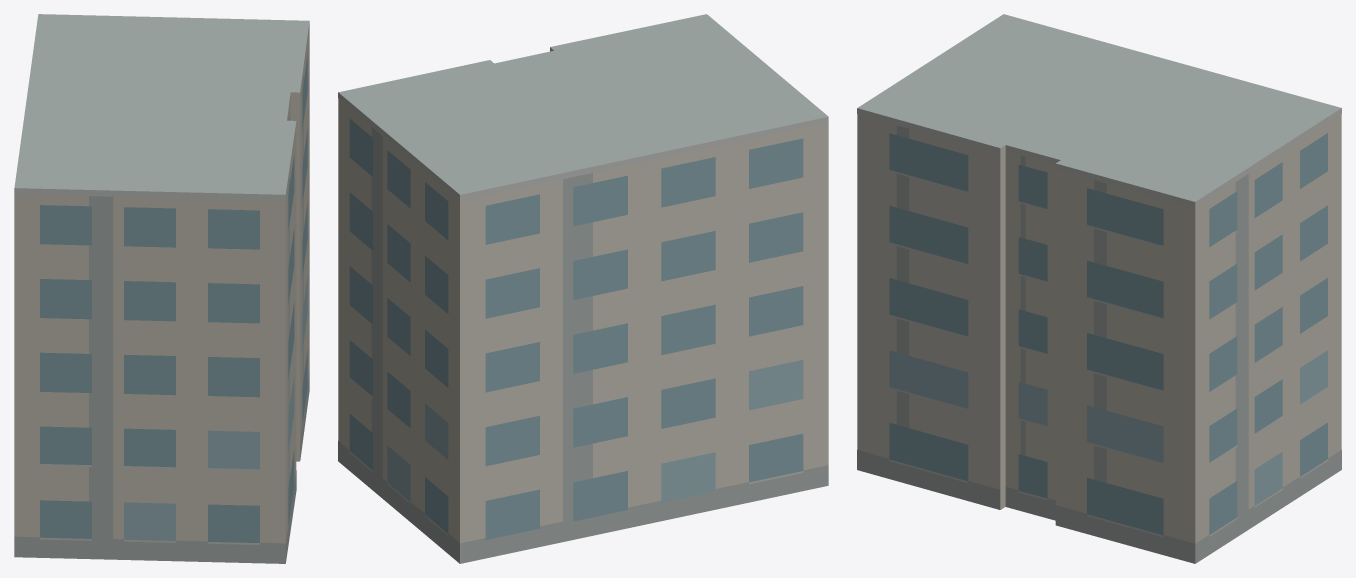
The model's file is survey-upis-32893496.glb.
3 views of the same model, side by side, from view 1: azimuth 30°, elevation 25°; view 2: azimuth 150°, elevation 25°; view 3: azimuth 270°, elevation 25° (orthographic).
Visible parts, largest first — view 1: survey-upis-32893496.tmp; view 2: survey-upis-32893496.tmp; view 3: survey-upis-32893496.tmp.
Part boxes in pixels (left/top/right/bottom): survey-upis-32893496.tmp: left=14, top=14, right=309, bottom=563; survey-upis-32893496.tmp: left=338, top=14, right=828, bottom=563; survey-upis-32893496.tmp: left=857, top=14, right=1341, bottom=563.
Bounding box in the file's own units: 16.27 × 14.6 × 17.72.
